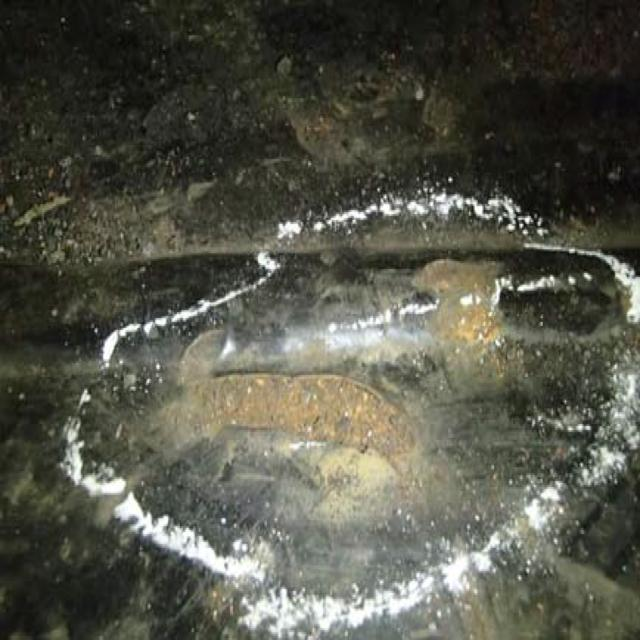corrosion: (189, 255, 544, 464)
